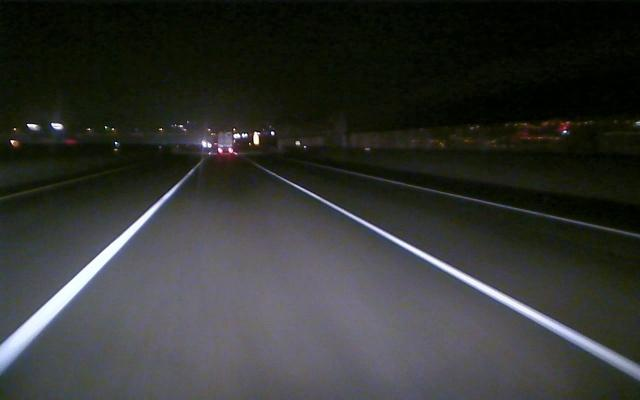lane: (276, 176, 633, 378), (3, 185, 180, 372), (348, 171, 637, 239), (0, 166, 132, 201)
